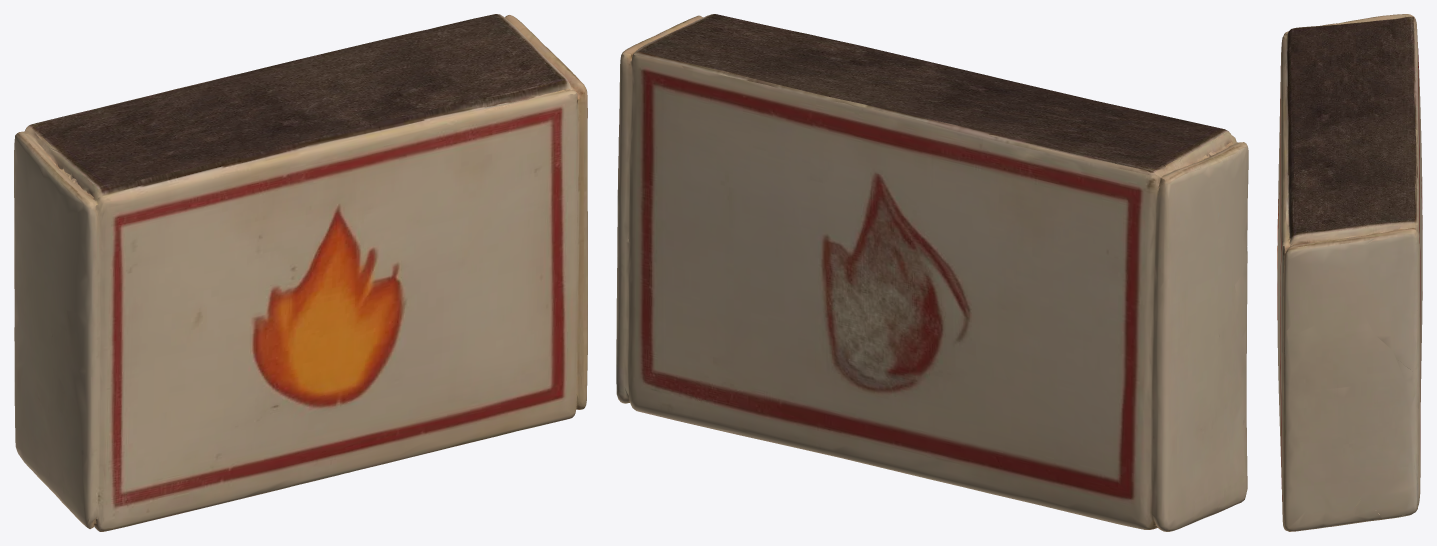
File: matchbox.glb
3 renders of one model, left to right at view 1: azimuth 30°, elevation 25°; view 2: azimuth 150°, elevation 25°; view 3: azimuth 270°, elevation 25°, orthographic. The views are drawn at different scales.
Visible parts, largest first — view 1: matchbox; view 2: matchbox; view 3: matchbox.
Part boxes in pixels (x1,y1,x2,y2): matchbox: (14,14,587,531); matchbox: (616,14,1248,531); matchbox: (1277,14,1422,531).
Bounding box in the file's own units: 0.15 × 0.1 × 0.042.
1 material, 1 textured.
